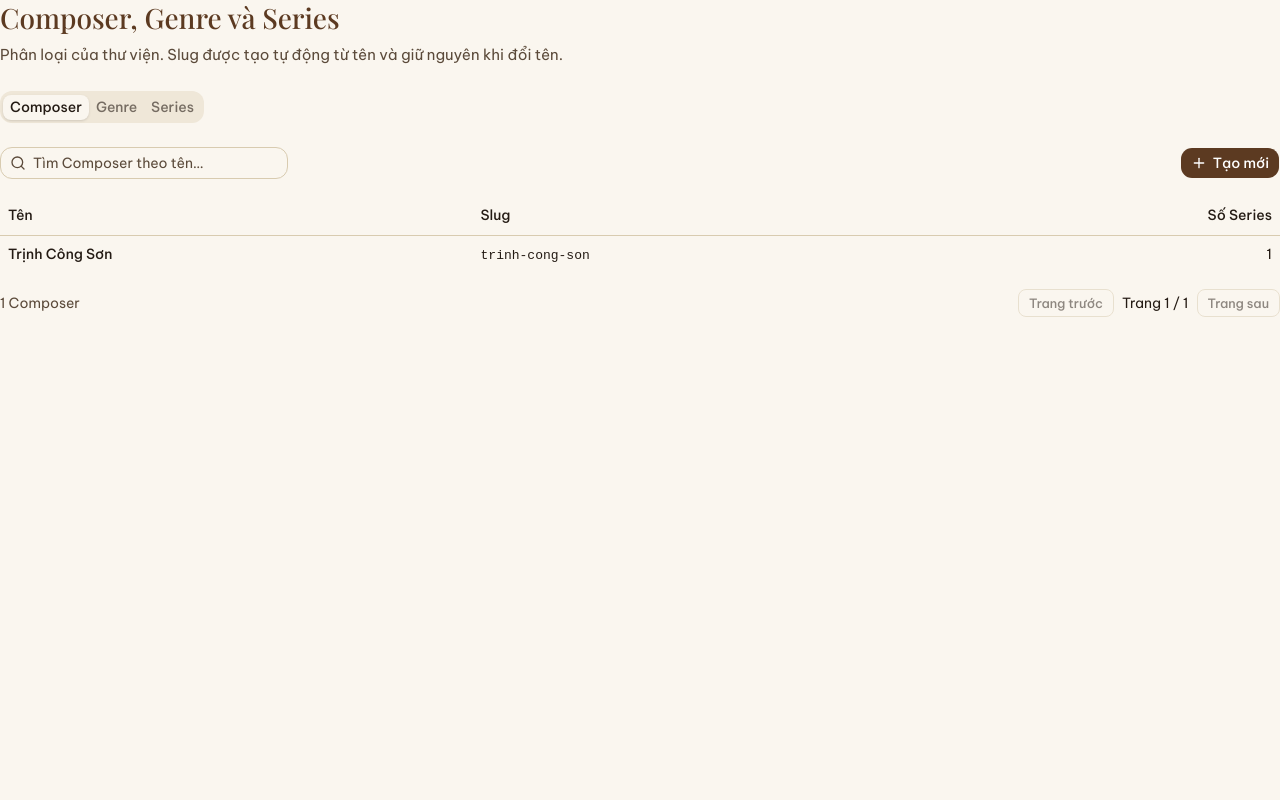
Test: Trang /taxonomy — tab Composer › click hàng mở form sửa; xoá bị 409 RESOURCE_IN_USE -> FormError với thông điệp của API, dialog vẫn mở
What coordinates should you click on to do the following:
click the row named "Sửa Composer Trịnh Công Sơn"
I would click on:
 (60, 254)
Its box is [0,235,1279,273].
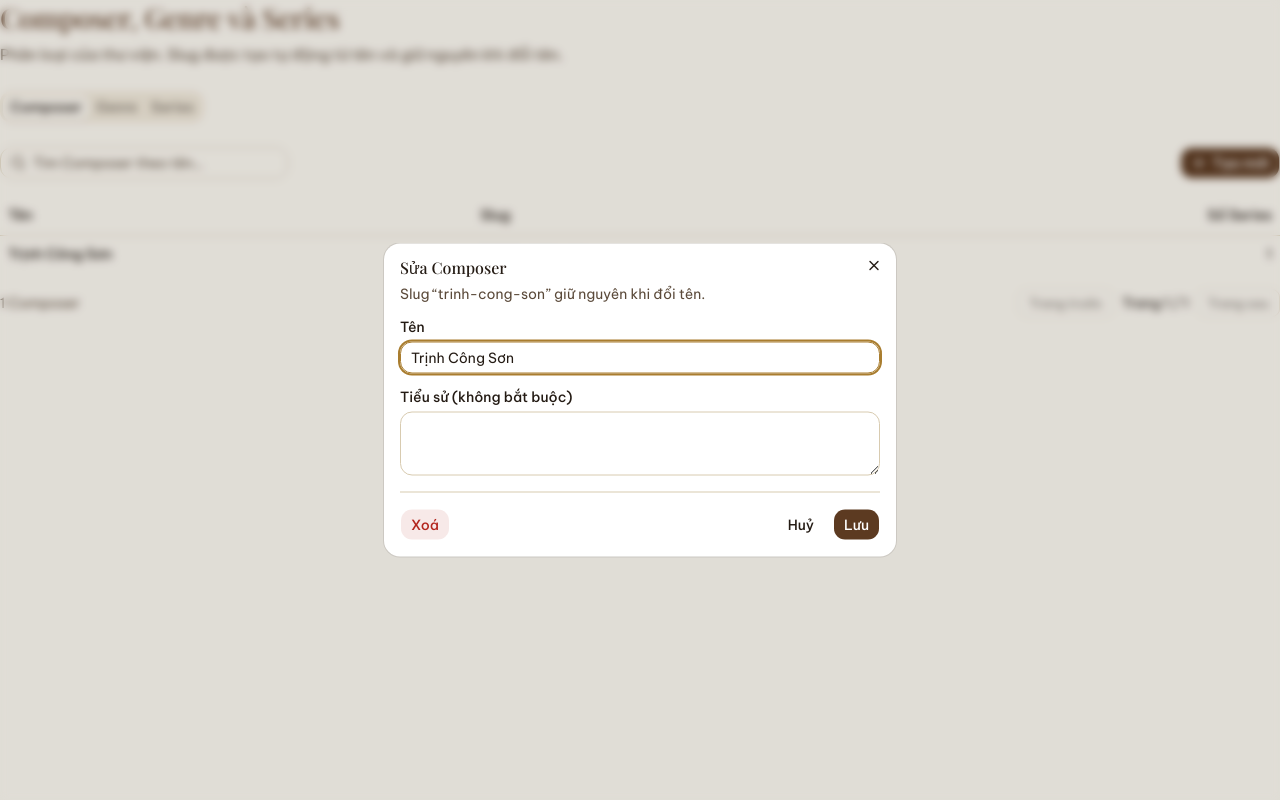
Expected: the field labelled "Tên" holds "Trịnh Công Sơn", [400,342,880,374]
What coordinates should you click on to do the following:
click the button "Xoá"
I would click on:
 (425, 524)
Its box is [400,508,450,540].
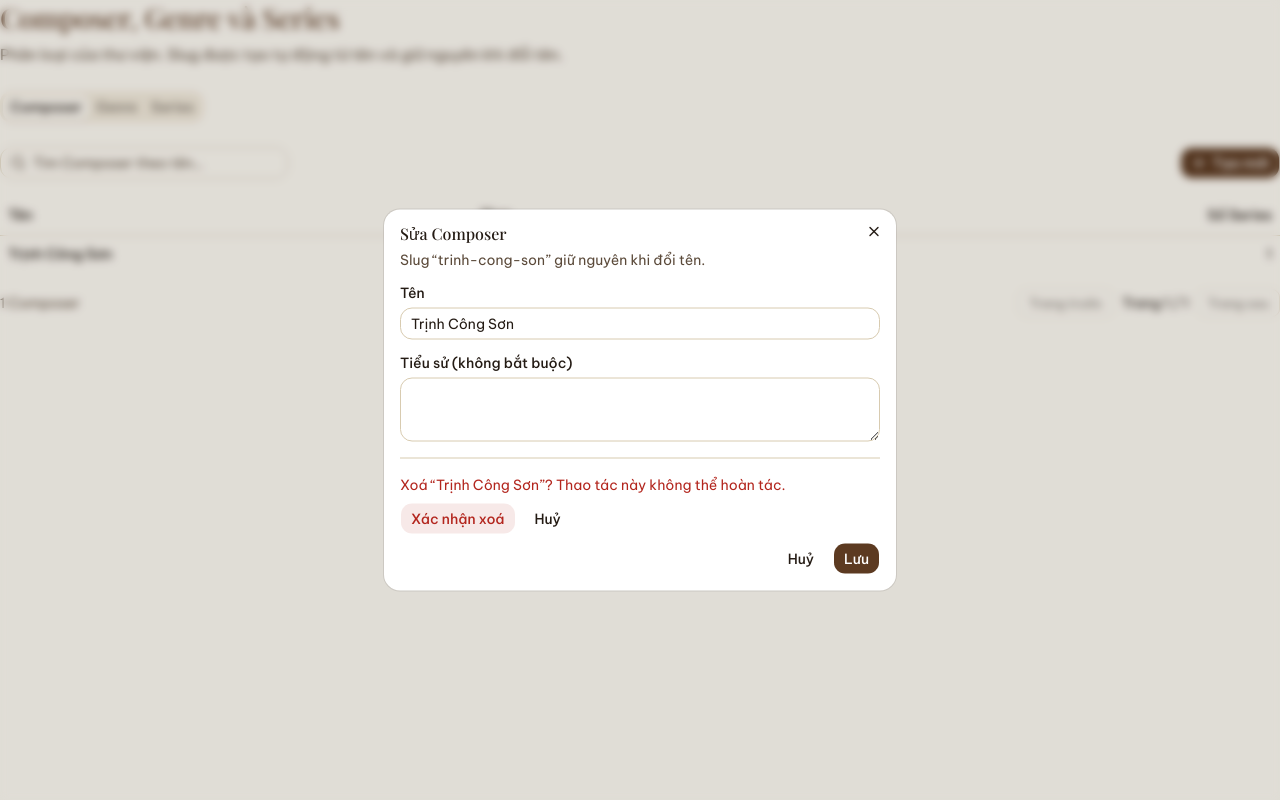
What coordinates should you click on to do the following:
click the button "Xác nhận xoá"
I would click on:
 (458, 518)
Its box is [400,502,516,534].
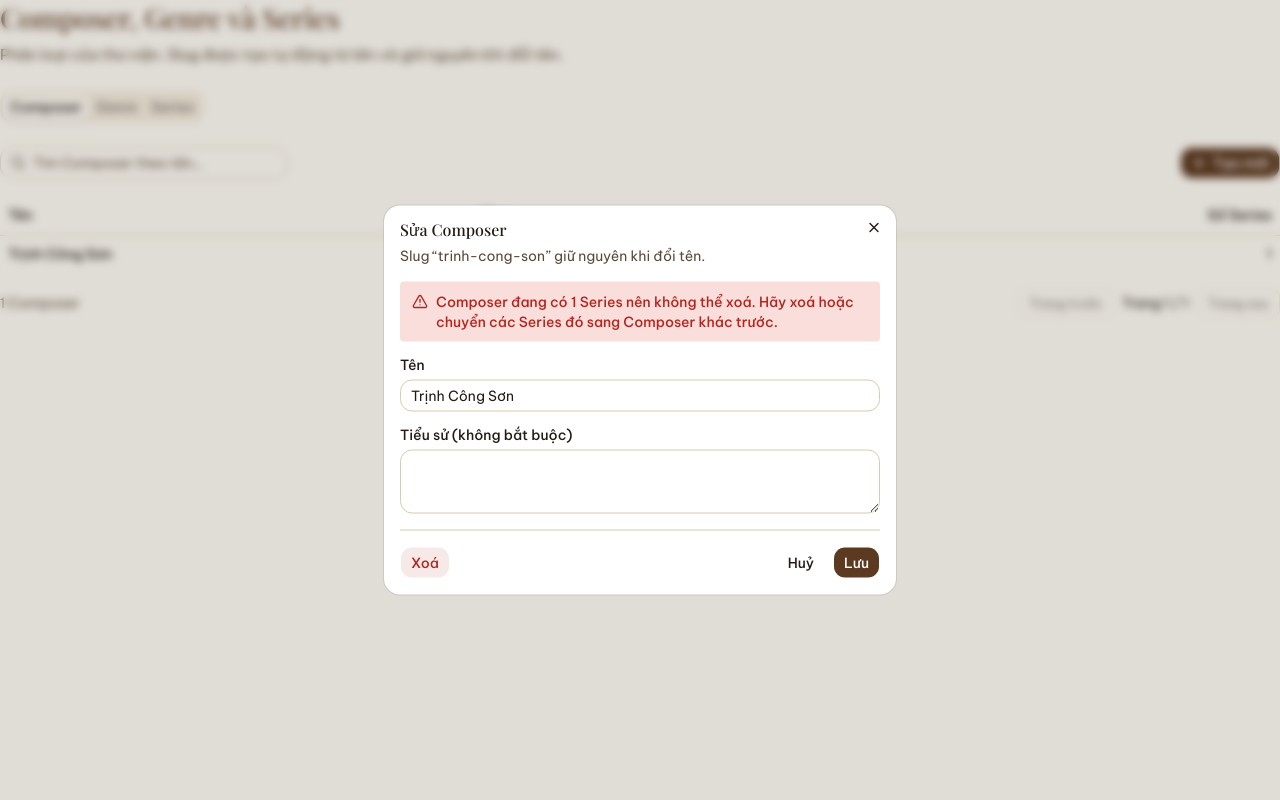
Expected: the dialog is shown, [384,206,896,594]
Expected: the message shows "Composer đang có 1 Series nên không thể xoá. Hãy xoá hoặc chuyển các Series đó sang Composer khác trước.", [436,292,854,330]
